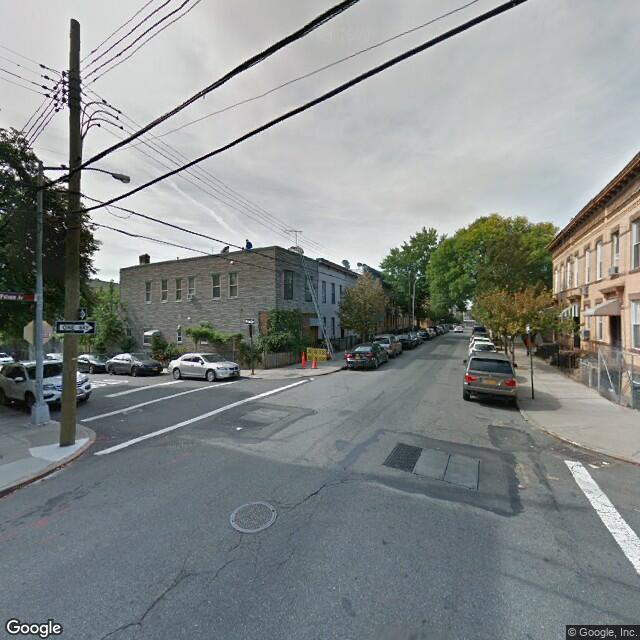litter: (582, 454, 612, 473)
